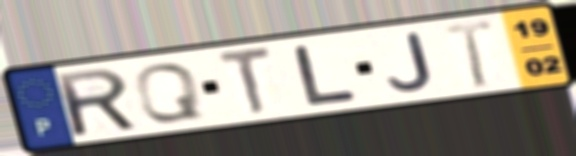J: (384, 30, 437, 94)
L: (289, 43, 361, 108)
Q: (131, 61, 207, 124)
R: (52, 65, 143, 139)
T: (215, 44, 277, 119), (440, 17, 497, 91)
